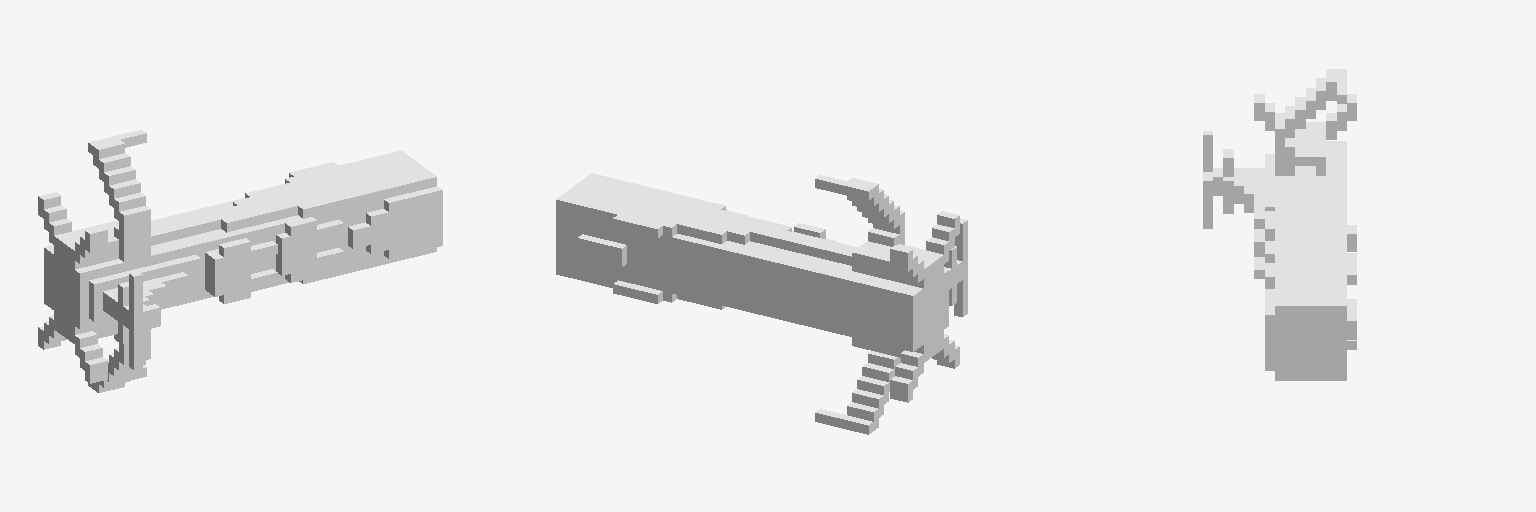
Rendered from SandP-Pirate.obj.
3 renders of one model, left to right at view 1: azimuth 30°, elevation 25°; view 2: azimuth 150°, elevation 25°; view 3: azimuth 270°, elevation 25°, orthographic.
Parts seen in each view (by area): view 1: SandP_Pirate; view 2: SandP_Pirate; view 3: SandP_Pirate.
Boxes of the visible parts, x1,y1,x2,y2 form: SandP_Pirate: [38, 130, 442, 392]; SandP_Pirate: [556, 173, 967, 434]; SandP_Pirate: [1203, 69, 1356, 380].
Bounding box in the file's own units: 40 × 26 × 15.